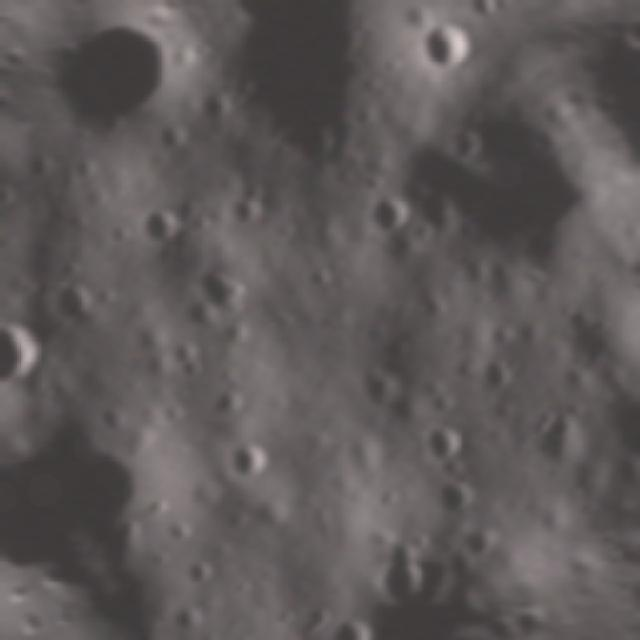crater: (355, 54, 640, 348), (151, 0, 451, 218), (12, 360, 210, 572), (40, 37, 202, 169), (345, 521, 452, 627), (501, 384, 605, 487), (198, 418, 291, 505), (577, 369, 640, 497), (407, 6, 488, 88), (31, 255, 112, 336), (0, 295, 60, 403), (120, 185, 198, 263), (406, 402, 482, 480), (177, 248, 251, 323), (348, 179, 422, 253), (346, 353, 419, 427), (418, 461, 491, 532), (427, 112, 496, 180), (446, 515, 509, 577), (175, 547, 228, 598), (316, 603, 386, 640), (166, 598, 212, 640), (0, 168, 25, 220), (632, 328, 640, 390)
